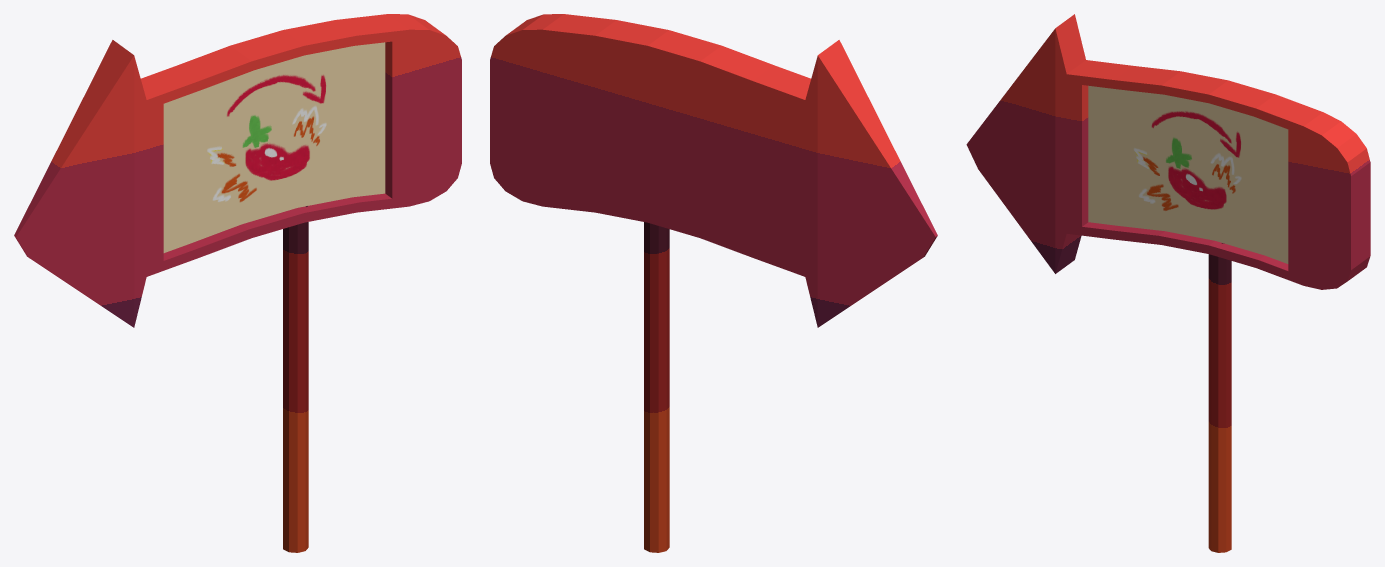
The model's file is Flecha salto Chilly Izq.fbx.
3 views of the same model, side by side, from view 1: azimuth 30°, elevation 25°; view 2: azimuth 150°, elevation 25°; view 3: azimuth 330°, elevation 25° (orthographic). The views are drawn at different scales.
Parts seen in each view (by area): view 1: Cylinder.007, Cylinder.008; view 2: Cylinder.007; view 3: Cylinder.007, Cylinder.008.
Boxes of the visible parts, <box> form: Cylinder.007: <box>14,14,461,552</box>; Cylinder.008: <box>163,42,385,252</box>; Cylinder.007: <box>490,14,937,552</box>; Cylinder.007: <box>966,14,1370,552</box>; Cylinder.008: <box>1088,85,1288,263</box>.
Size of the model in its own units: 459 by 545 by 39.22.
2 materials, 2 textured.
